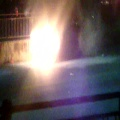fire: (29, 21, 59, 72)
